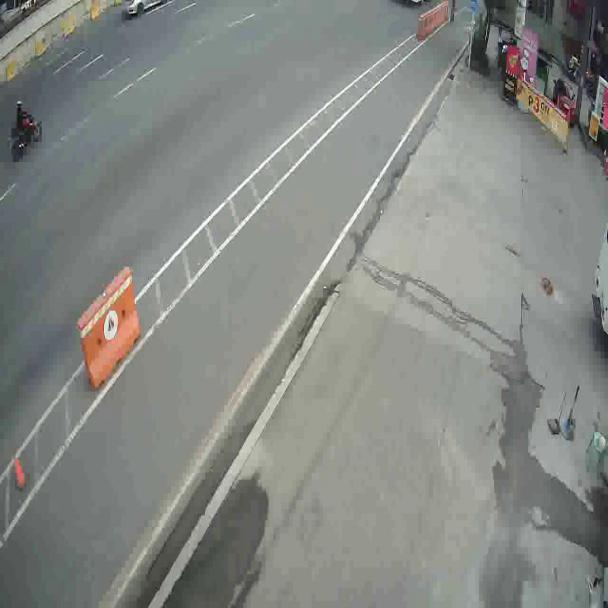motorcyclist: (6, 103, 48, 168)
